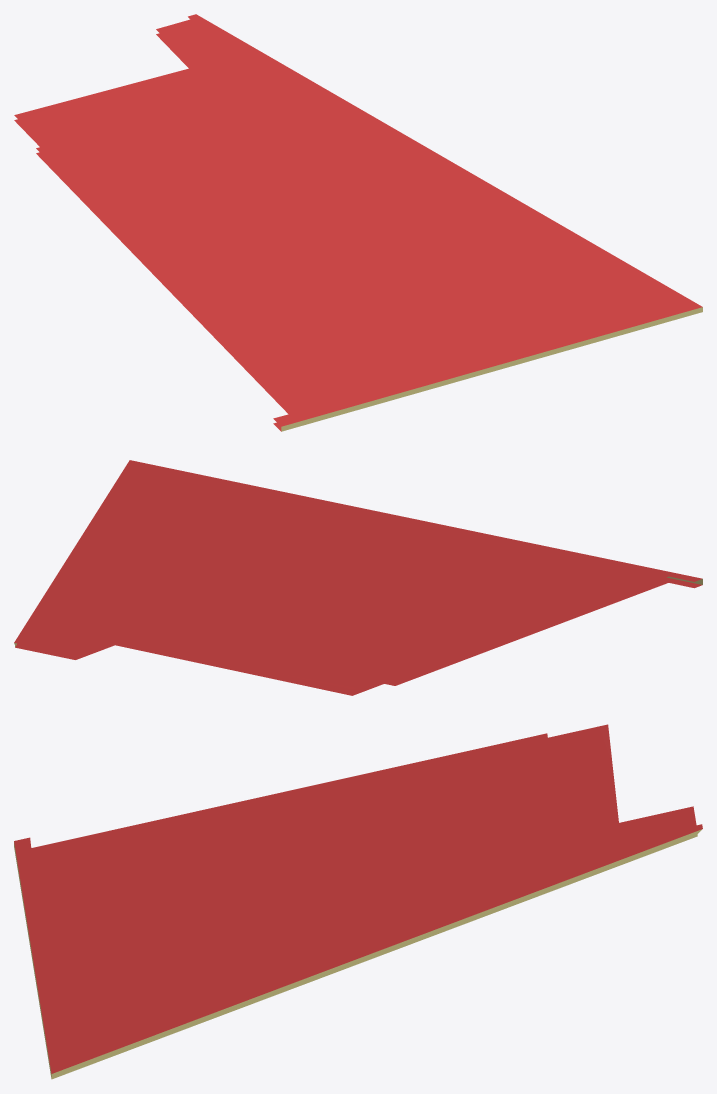
3 views of the same model, one above another, from view 1: azimuth 30°, elevation 25°; view 2: azimuth 150°, elevation 25°; view 3: azimuth 270°, elevation 25° (orthographic). The views are drawn at different scales.
Visible parts, largest first — view 1: group_3, group_4, group_5; view 2: group_3, group_5; view 3: group_3, group_4.
Part boxes in pixels (<box>): group_3: <box>14,14,702,426</box>; group_4: <box>281,307,702,431</box>; group_5: <box>14,33,291,431</box>; group_3: <box>14,460,702,689</box>; group_5: <box>15,577,702,695</box>; group_3: <box>14,724,702,1073</box>; group_4: <box>14,829,702,1079</box>.
Bounding box in the file's own units: 9.16 × 11.43 × 2.57.
